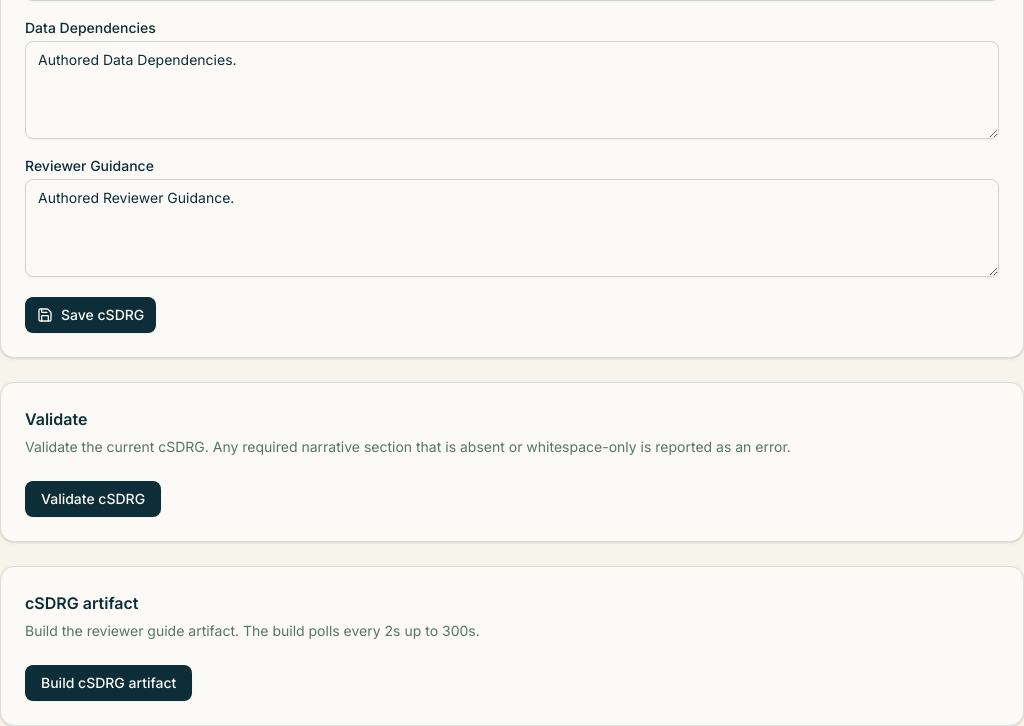
it: CsdrgPanel validate (Req 19.4) › reports no client section error once every section is authored
The image size is (1024, 726).
(page scrolled)
Click the button "Validate cSDRG".
click(93, 499)  # box x1=25 y1=481 x2=161 y2=517
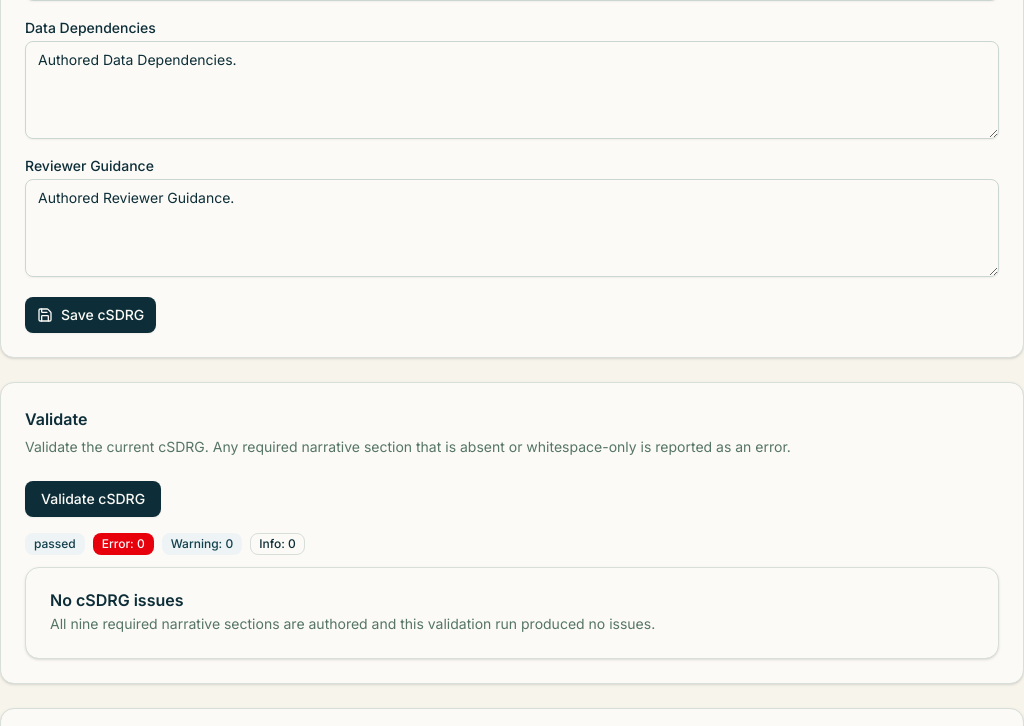
Expected: the text "All nine required narrative sections are authored and this validation run produced no issues." is shown, x1=50 y1=615 x2=655 y2=632
Expected: the text "Error: 0" is shown, x1=93 y1=533 x2=154 y2=555
